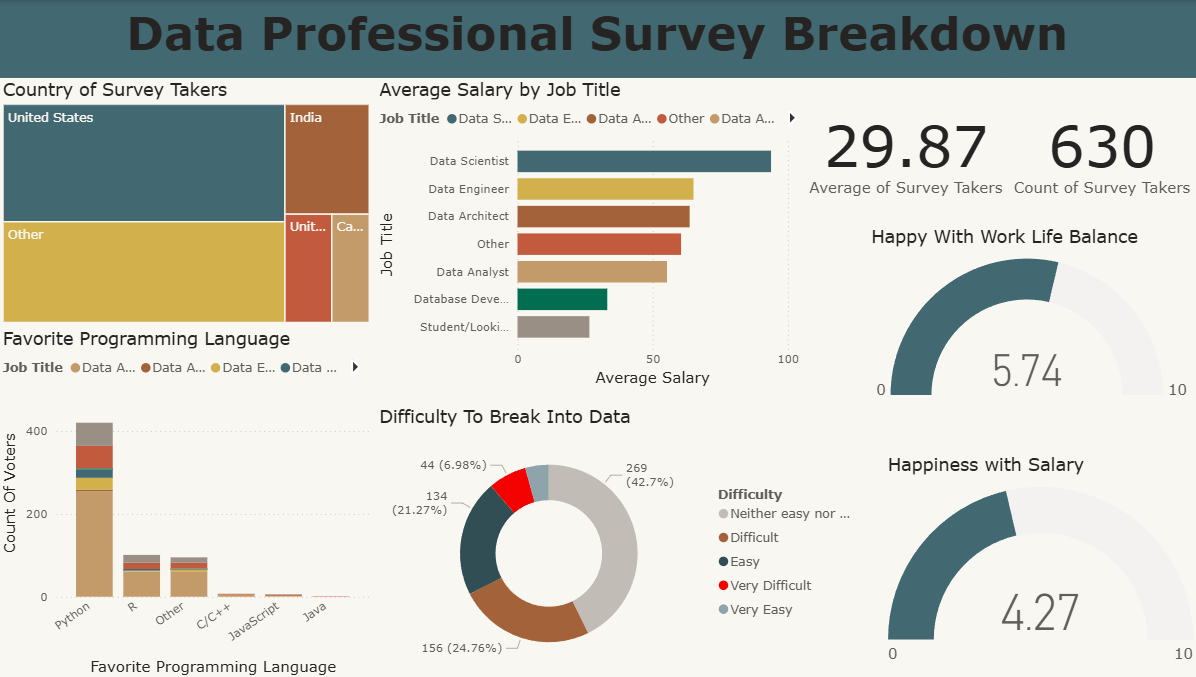

Layout of this report page (visuals, bound fields, positions):
{"tool":"powerbi","page":{"name":"Page 1","canvas":[1280,720],"ordinal":0},"visuals":[{"type":"textbox","box":[10,0,280,280],"z":0},{"type":"textbox","box":[9.7,0,1271.1,82.6],"z":1000},{"type":"card","fields":{"Values":["CountNonNull(Data Professional Survey.Unique ID)"]},"box":[1080,83.3,200,155],"z":2000},{"type":"card","fields":{"Values":["Avg(Data Professional Survey.Q10 - Current Age)"]},"box":[863.3,83.3,216.7,155],"z":3000},{"type":"barChart","title":"Average Salary by Job Title","fields":{"Category":["Data Professional Survey.Q1 - Which Title Best Fits your Current Role?.1"],"Y":["Avg(Data Professional Survey.Average Salary)"],"Series":["Data Professional Survey.Q1 - Which Title Best Fits your Current Role?.1"]},"box":[408.3,83.3,455,331.7],"z":4000},{"type":"columnChart","title":"Favorite Programming Language","fields":{"Category":["Data Professional Survey.Q5 - Favorite Programming Language.1"],"Y":["CountNonNull(Data Professional Survey.Unique ID)"],"Series":["Data Professional Survey.Q1 - Which Title Best Fits your Current Role?.1"]},"box":[9.7,346.5,398.3,374],"z":5000},{"type":"treemap","title":"Country of Survey Takers","fields":{"Group":["Data Professional Survey.Q11 - Which Country do you live in?.1"],"Values":["CountNonNull(Data Professional Survey.Q11 - Which Country do you live in?.1)"]},"box":[9.7,82.6,398.3,263.9],"z":6000},{"type":"gauge","title":"Happy With Work Life Balance","fields":{"Y":["Avg(Data Professional Survey.Q6 - How Happy are you in your Current Position with the following? (Work/Life Balance))"],"MinValue":["Min(Data Professional Survey.Q6 - How Happy are you in your Current Position with the following? (Work/Life Balance))"],"MaxValue":["Max(Data Professional Survey.Q6 - How Happy are you in your Current Position with the following? (Work/Life Balance))"]},"box":[931.1,238,349.8,197.5],"z":7000},{"type":"gauge","title":"Happiness with Salary","fields":{"Y":["Avg(Data Professional Survey.Q6 - How Happy are you in your Current Position with the following? (Salary))"],"MinValue":["Min(Data Professional Survey.Q6 - How Happy are you in your Current Position with the following? (Salary))"],"MaxValue":["Max(Data Professional Survey.Q6 - How Happy are you in your Current Position with the following? (Salary))"]},"box":[947.2,480.9,333.6,239.6],"z":8000},{"type":"donutChart","title":"Difficulty To Break Into Data","fields":{"Category":["Data Professional Survey.Q7 - How difficult was it for you to break into Data?"],"Y":["CountNonNull(Data Professional Survey.Q7 - How difficult was it for you to break into Data?)"]},"box":[408,429.1,523,291.5],"z":9000}]}

Visuals, with their boxes in screenshot pixels (x1, y1, x2, y2), scaled from the page's 1280x720 canvas onto the 1196x677 screenshot:
textbox: crop(9, 0, 271, 263)
textbox: crop(9, 0, 1195, 78)
card - CountNonNull(Data Professional Survey.Unique ID): crop(1009, 78, 1195, 224)
card - Avg(Data Professional Survey.Q10 - Current Age): crop(807, 78, 1009, 224)
"Average Salary by Job Title" barChart: crop(382, 78, 807, 390)
"Favorite Programming Language" columnChart: crop(9, 326, 381, 676)
"Country of Survey Takers" treemap: crop(9, 78, 381, 326)
"Happy With Work Life Balance" gauge: crop(870, 224, 1195, 409)
"Happiness with Salary" gauge: crop(885, 452, 1195, 676)
"Difficulty To Break Into Data" donutChart: crop(381, 403, 870, 676)
